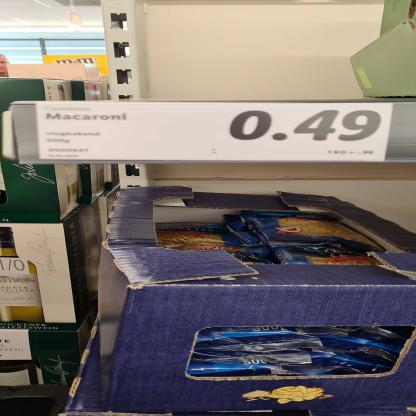prtg: (38, 102, 394, 163)
